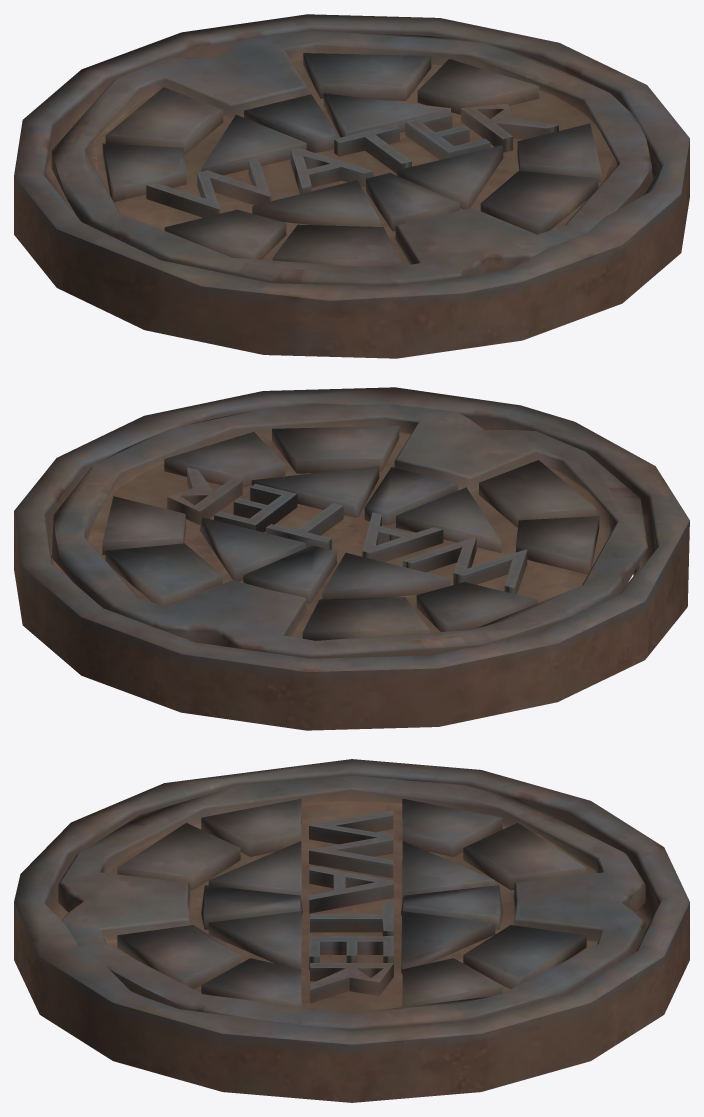
File: water_manhole_cover.glb
3 views of the same model, one above another, from view 1: azimuth 30°, elevation 25°; view 2: azimuth 150°, elevation 25°; view 3: azimuth 270°, elevation 25° (orthographic).
Visible parts, largest first — view 1: water_manhole_cover_frame; view 2: water_manhole_cover_frame; view 3: water_manhole_cover_frame.
Part boxes in pixels (x1,y1,x2,y2): water_manhole_cover_frame: [14, 14, 689, 358]; water_manhole_cover_frame: [14, 387, 689, 730]; water_manhole_cover_frame: [14, 759, 689, 1102].
Size of the model in its own units: 0.6908 by 0.0676 by 0.6908.
Materials: 1 (1 with a texture image).
